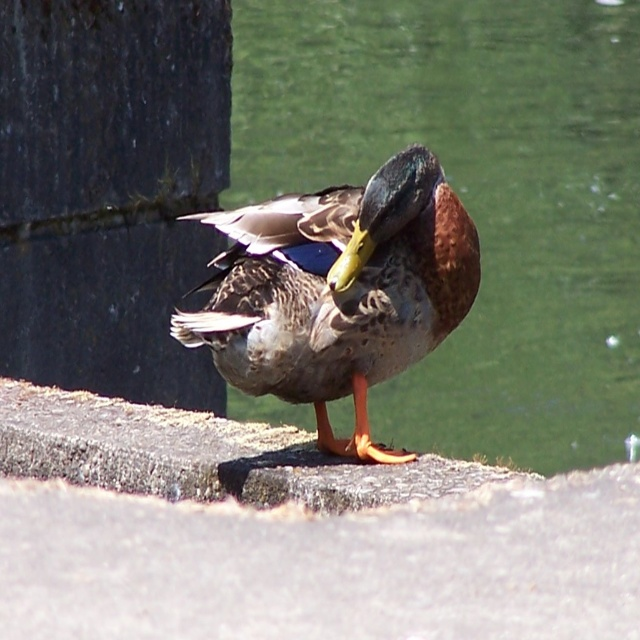Duck: (170, 142, 482, 466)
